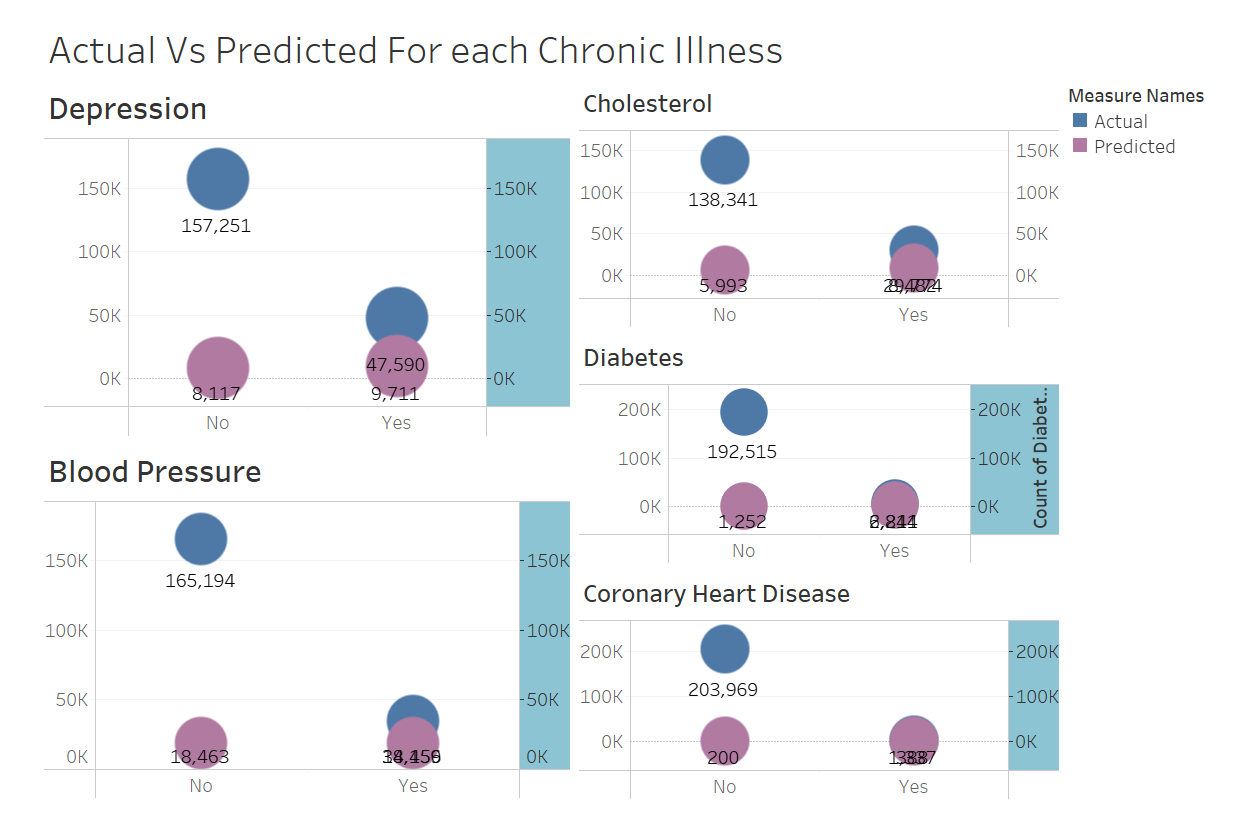

The page's visual inventory and layout, read from the dashboard file:
{"tool":"tableau","page":{"name":"Actual Vs Predicted For each Chronic Illness","canvas":[1200,800],"ordinal":0},"visuals":[{"type":"title","box":[8,8,1184,58]},{"type":"worksheet","title":"Depression (Actual vs Predicted) ","mark":"Automatic","rows":["depr_diagnosed (new_merged_for_tableau.csv1)","lr_both_depr_diagnosed_pred (new_merged_for_tableau.csv1)"],"cols":["depr_diagnosed (new_merged_for_tableau.csv1)"],"box":[8,66,535,363]},{"type":"worksheet","title":"Cholesterol (Actual vs Predicted) ","mark":"Automatic","rows":["cholesterol_diagnosed (new_merged_for_tableau.csv1)","lr_both_cholesterol_diagnosed_pred (new_merged_for_tableau.c"],"cols":["cholesterol_diagnosed (new_merged_for_tableau.csv1)"],"box":[543,66,489,270]},{"type":"legend","title":"Depression (Actual vs Predicted) ","param":"[federated.1eyh0di1v6c3jl159ehho1ouayks].[:Measure Names]","box":[1032,66,160,84]},{"type":"worksheet","title":"Diabetes (Actual vs Predicted).","mark":"Automatic","rows":["diab_diagnosed (new_merged_for_tableau.csv1)","lr_both_diab_diagnosed_pred (new_merged_for_tableau.csv1)"],"cols":["diab_diagnosed (new_merged_for_tableau.csv1)"],"box":[543,336,489,228]},{"type":"worksheet","title":"BP (Actual vs Predicted) ","mark":"Automatic","rows":["bp_diagnosed (new_merged_for_tableau.csv1)","lr_both_bp_diagnosed_pred (new_merged_for_tableau.csv1)"],"cols":["bp_diagnosed (new_merged_for_tableau.csv1)"],"box":[8,429,535,363]},{"type":"worksheet","title":"CHD (Actual vs Predicted) ","mark":"Automatic","rows":["chd_diagnosed (new_merged_for_tableau.csv1)","lr_both_chd_diagnosed_pred (new_merged_for_tableau.csv1)"],"cols":["chd_diagnosed (new_merged_for_tableau.csv1)"],"box":[543,564,489,228]}]}

Visuals, with their boxes in screenshot pixels (x1, y1, x2, y2), scaled from the page's 1200x800 canvas onto the 1239x835 screenshot:
title: 8 8 1231 69
"Depression (Actual vs Predicted) " worksheet: 8 69 561 448
"Cholesterol (Actual vs Predicted) " worksheet: 561 69 1066 351
"Depression (Actual vs Predicted) " legend: 1066 69 1231 157
"Diabetes (Actual vs Predicted)." worksheet: 561 351 1066 589
"BP (Actual vs Predicted) " worksheet: 8 448 561 827
"CHD (Actual vs Predicted) " worksheet: 561 589 1066 827
